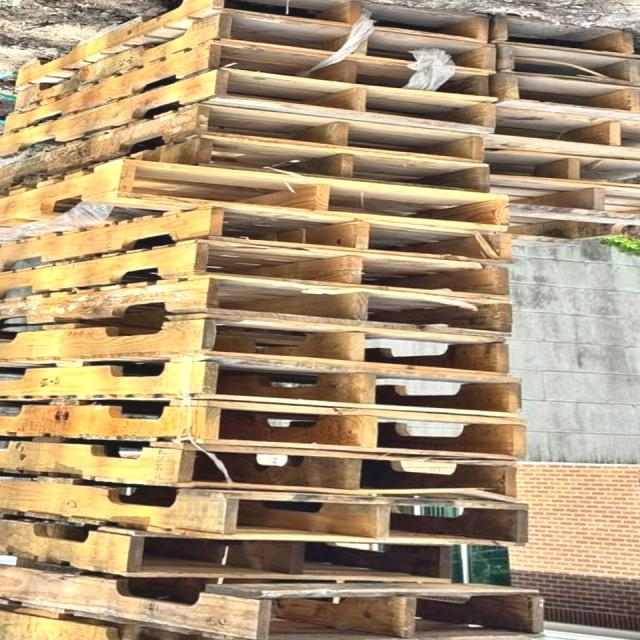non-igps: (0, 55, 508, 171), (0, 29, 506, 143), (7, 2, 501, 118), (0, 94, 491, 205), (0, 466, 539, 559), (0, 149, 516, 246), (8, 0, 498, 97), (0, 264, 519, 354), (0, 556, 553, 640), (0, 430, 529, 516), (0, 388, 533, 471), (0, 231, 519, 315), (0, 348, 532, 428), (0, 508, 462, 597), (0, 199, 528, 275), (0, 308, 521, 382), (98, 126, 499, 199), (476, 93, 640, 165), (479, 69, 640, 126), (478, 171, 640, 225), (478, 140, 640, 194), (484, 36, 640, 91), (482, 8, 640, 62), (491, 193, 640, 247)
